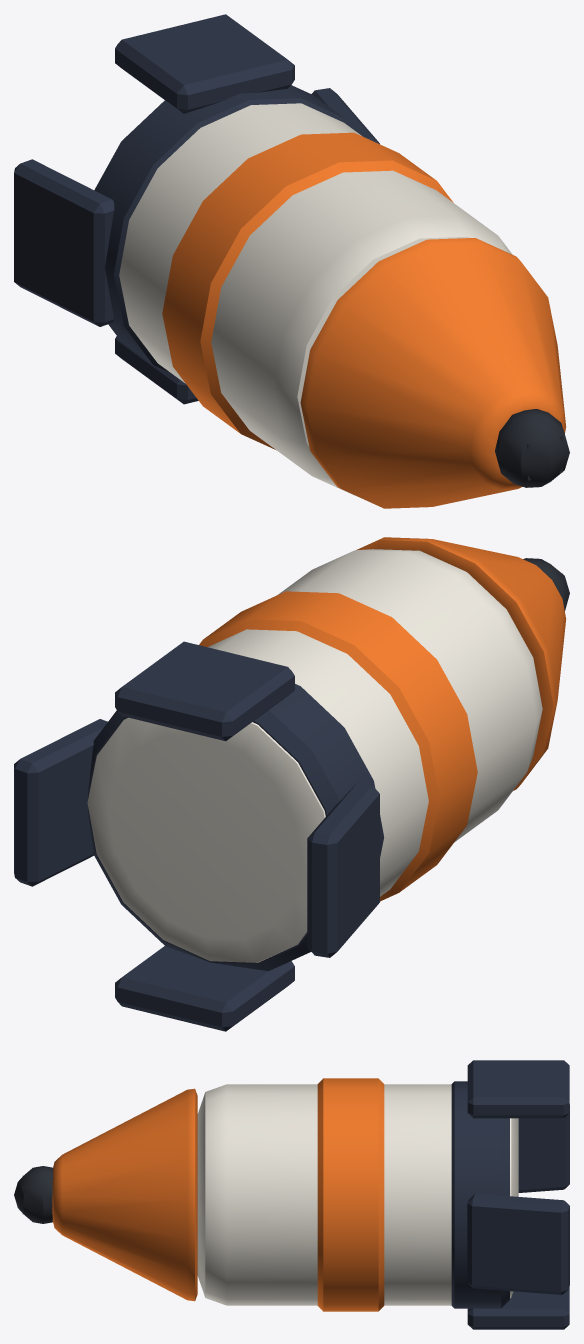
Rendered from wpn_impact_grenade.fbx.
3 views of the same model, one above another, from view 1: azimuth 30°, elevation 25°; view 2: azimuth 150°, elevation 25°; view 3: azimuth 270°, elevation 25° (orthographic). The views are drawn at different scales.
Visible parts, largest first — view 1: Body; view 2: Body; view 3: Body.
Part boxes in pixels (bbox=[...]): Body: bbox=[14, 14, 569, 508]; Body: bbox=[14, 537, 569, 1031]; Body: bbox=[14, 1060, 569, 1329].
Bounding box in the file's own units: 0.9326 × 0.88 × 1.91.
2 materials, 1 textured.
